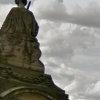Statue: (4, 1, 41, 85)
